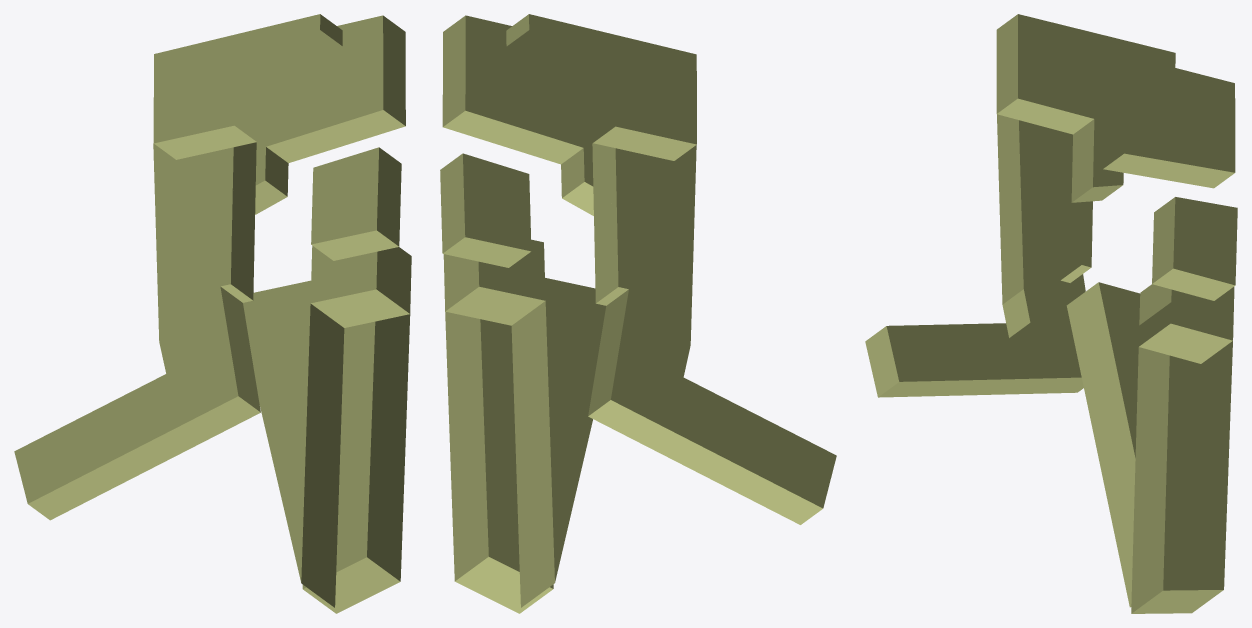
3 renders of one model, left to right at view 1: azimuth 30°, elevation 25°; view 2: azimuth 150°, elevation 25°; view 3: azimuth 330°, elevation 25°, orthographic. The views are drawn at different scales.
Parts seen in each view (by area): view 1: 0_1_0_0_1_0_2_0; view 2: 0_1_0_0_1_0_2_0; view 3: 0_1_0_0_1_0_2_0.
Part boxes in pixels (<box>): 0_1_0_0_1_0_2_0: <box>14,14,411,613</box>; 0_1_0_0_1_0_2_0: <box>440,14,836,613</box>; 0_1_0_0_1_0_2_0: <box>865,14,1237,613</box>.
Bounding box in the file's own units: 56.72 × 84.32 × 9.3.
